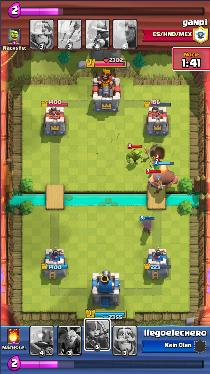ally_giant: (149, 165, 179, 188)
ally_goblin_cage: (125, 146, 144, 165)
ally_musketeer: (141, 215, 153, 233)
enemy_mini_pekka: (148, 174, 161, 189)
enemy_spear_goblin: (150, 160, 161, 171), (149, 156, 163, 163)
